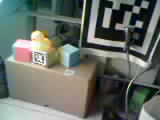duck: (22, 25, 50, 48)
